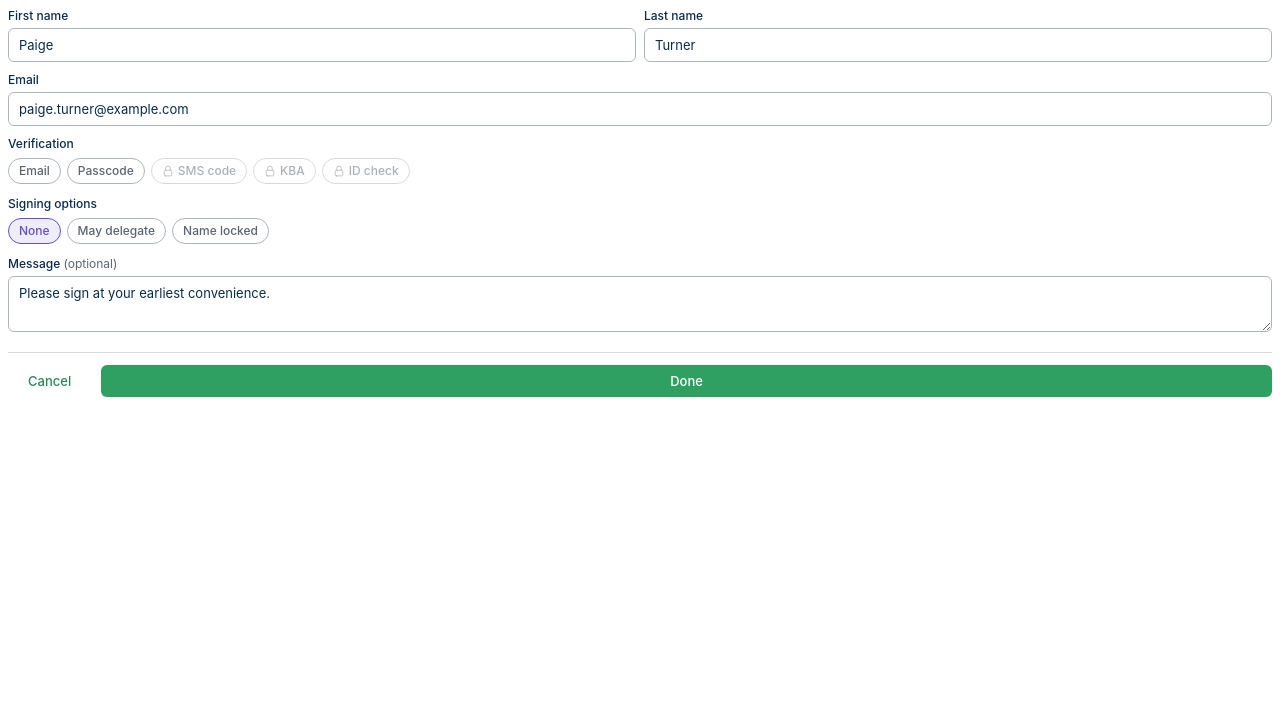
Test: ContactPicker › holds Done until every selected verification method is satisfied
The image size is (1280, 720).
Click the button "Email" at (34, 171), box [8,158,61,184]
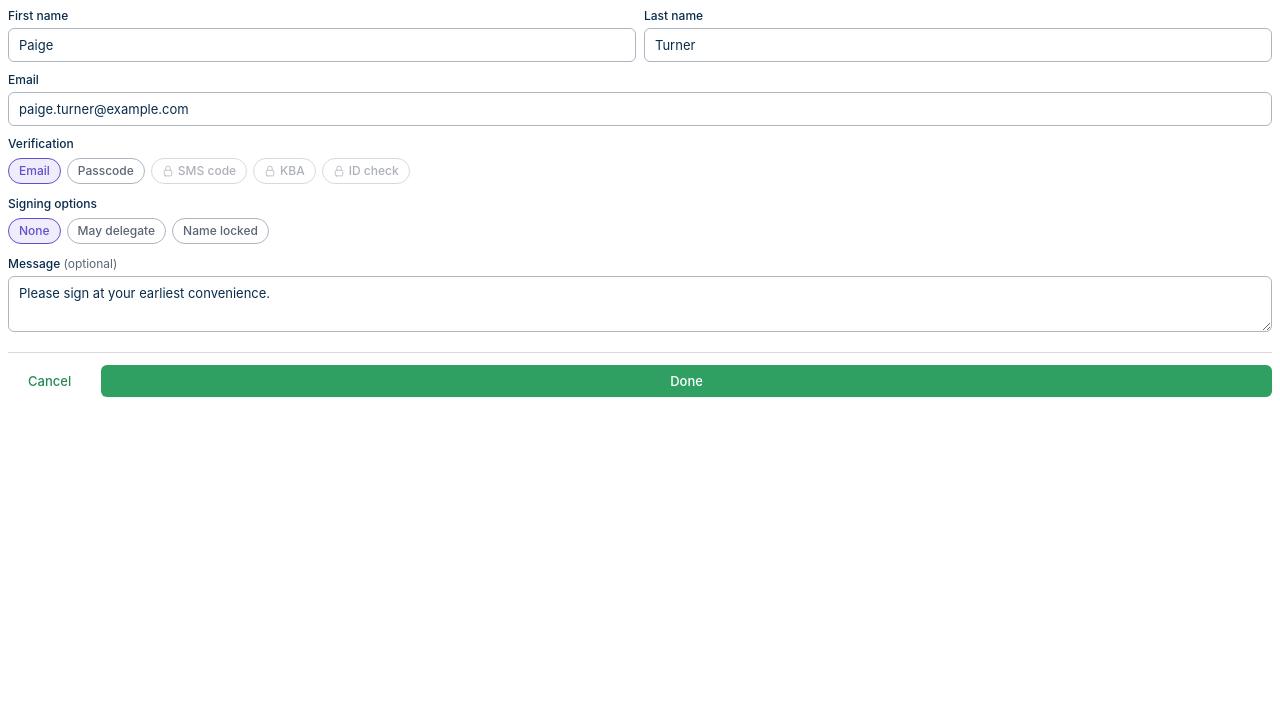
Click the button "Passcode" at (106, 171), box [67,158,145,184]
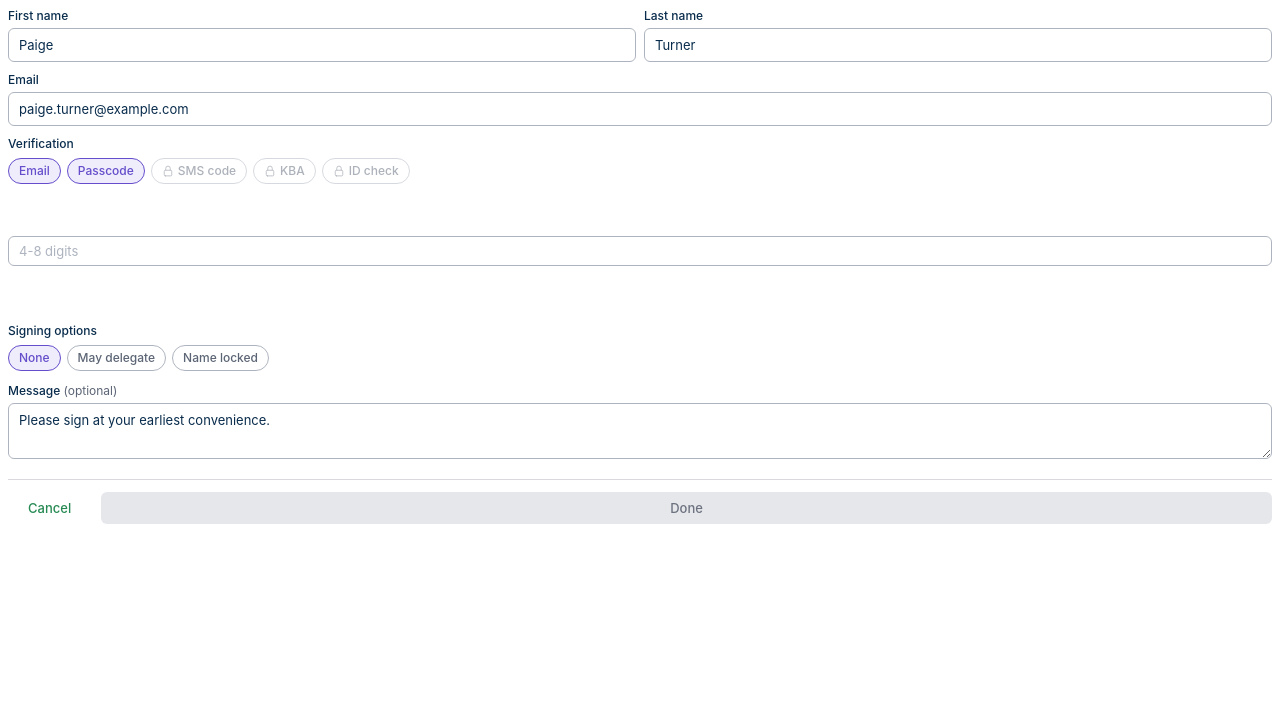
expect the button "Done" is disabled: met, box [101,492,1272,524]
Type "4321" into the field named "Passcode" at (640, 251), box [8,236,1272,266]
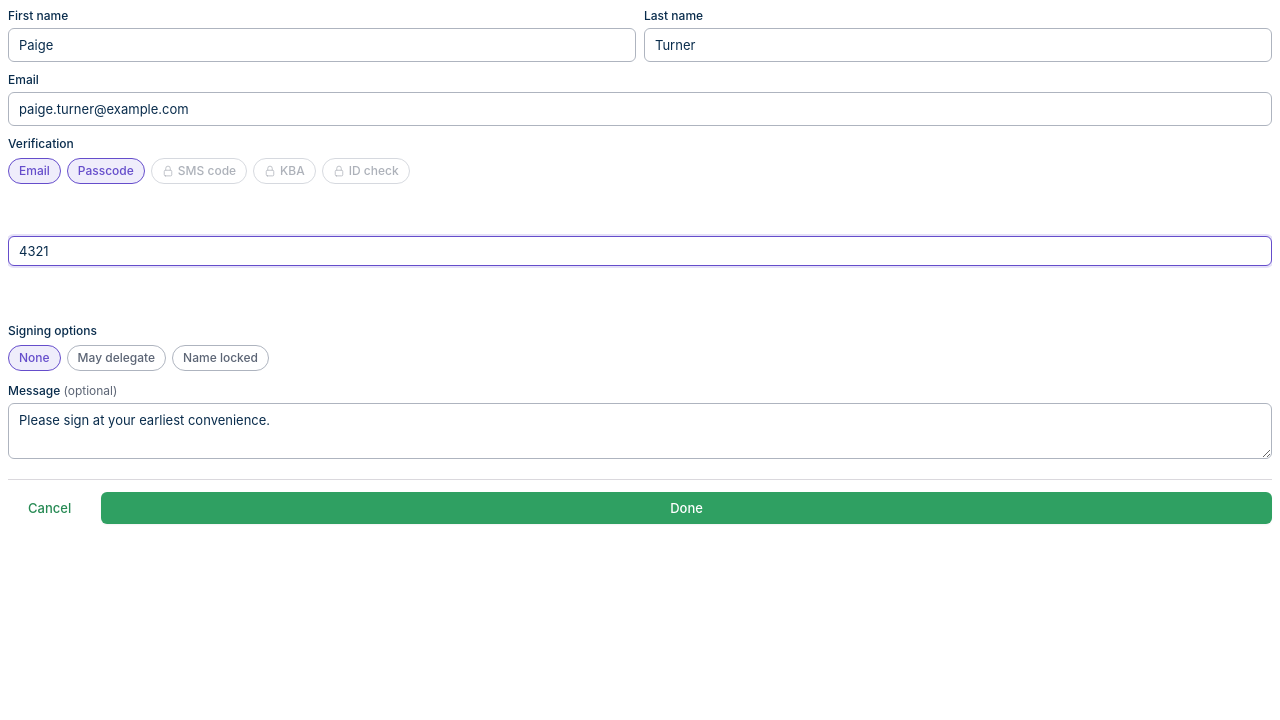
expect the button "Done" is enabled: met, box [101,492,1272,524]
